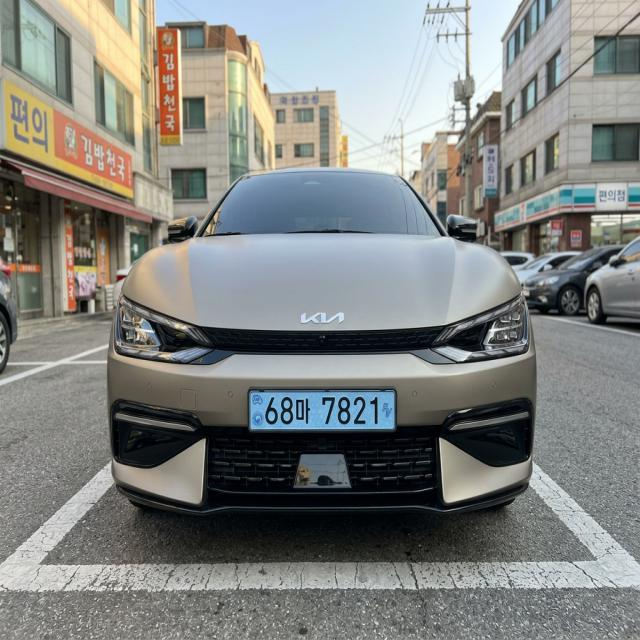car: (225, 382, 421, 443)
carev: (379, 389, 399, 436), (249, 388, 265, 434)
